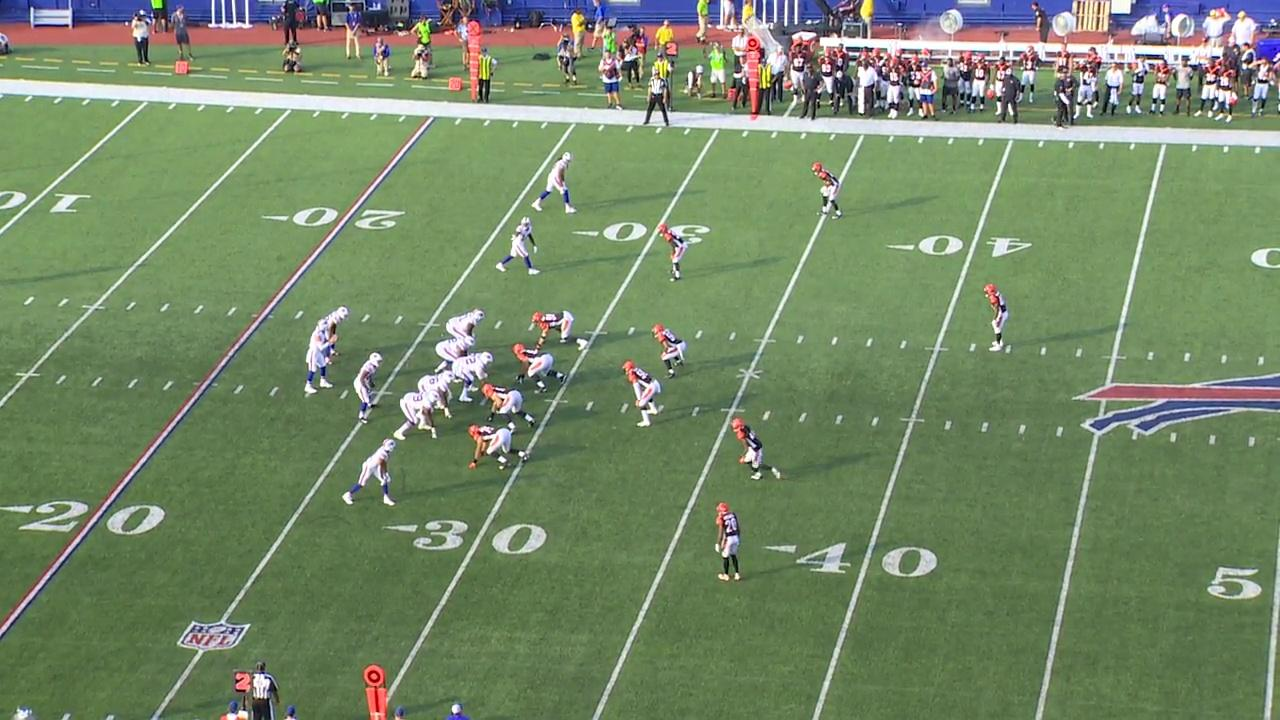player: (341, 438, 397, 509), (730, 420, 783, 485), (481, 382, 540, 435), (531, 150, 579, 215), (301, 318, 339, 397), (466, 424, 531, 470), (496, 215, 542, 279), (511, 343, 568, 394), (622, 360, 661, 431), (350, 351, 386, 427), (712, 505, 746, 583), (529, 309, 589, 352), (392, 388, 440, 441), (652, 322, 691, 385), (980, 282, 1014, 353), (452, 351, 496, 404), (810, 161, 848, 222), (656, 222, 688, 284), (432, 333, 476, 378), (318, 304, 350, 365), (417, 368, 455, 419), (444, 307, 486, 350)
ref: (244, 659, 284, 720), (641, 71, 673, 130)
